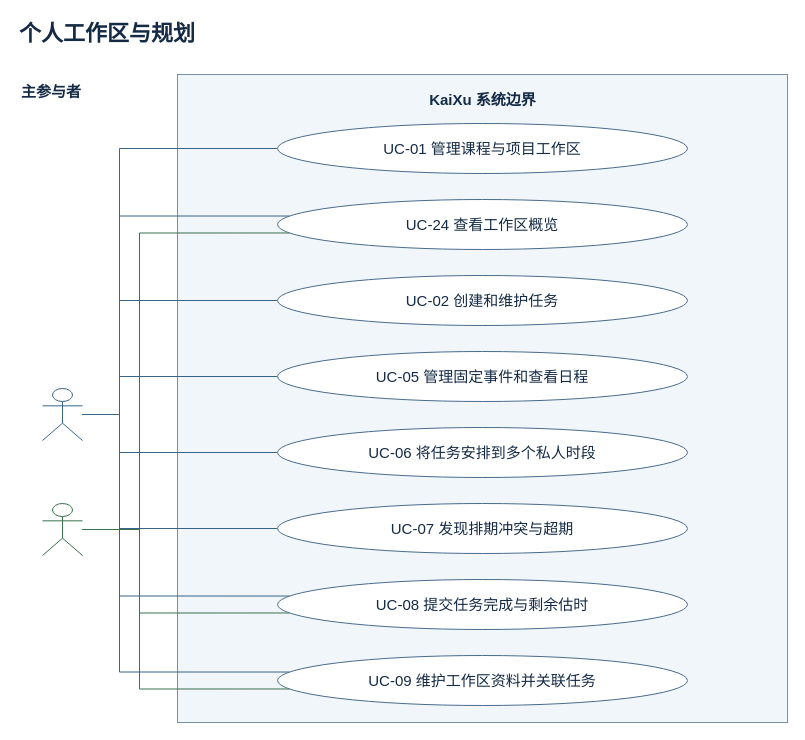
Some shapes in this 805 by 740 pixel diagram are drawn without their labels. Here are the shapes that lost their labels. From the top down, the box of each, then its label:
(42, 388, 82, 440): 学生用户
(42, 502, 82, 556): 项目成员
